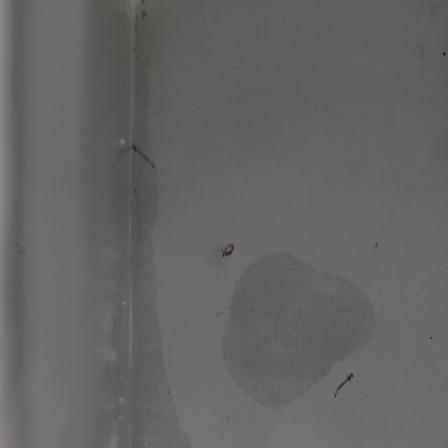Jentik-Nyamuk: (128, 139, 158, 172), (327, 370, 357, 399), (216, 241, 238, 261)
